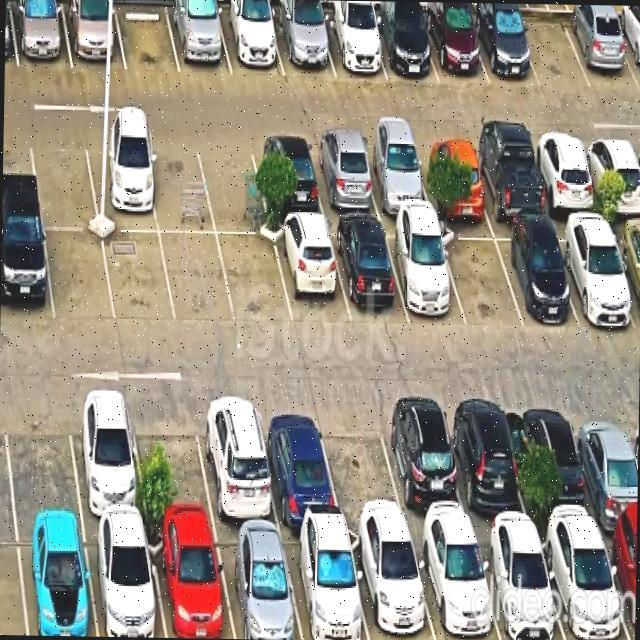Car: (198, 429, 269, 541), (72, 428, 142, 536), (388, 421, 456, 532), (18, 540, 91, 636), (154, 538, 224, 638), (271, 432, 331, 546), (228, 540, 296, 640), (555, 542, 624, 640), (294, 538, 359, 640), (362, 544, 431, 640), (521, 414, 579, 526), (427, 541, 492, 640), (454, 421, 514, 528), (572, 228, 631, 336), (91, 541, 156, 637), (580, 420, 638, 526), (398, 226, 458, 326), (495, 541, 555, 640), (90, 130, 153, 224), (513, 228, 570, 330), (426, 128, 482, 229), (485, 135, 540, 236), (343, 221, 398, 322), (278, 226, 338, 318), (254, 135, 316, 223), (538, 138, 592, 238), (590, 135, 640, 234), (369, 136, 421, 224), (0, 231, 48, 319), (318, 136, 368, 219), (378, 1, 430, 80), (172, 0, 224, 78), (430, 3, 480, 80), (330, 1, 378, 78), (225, 0, 275, 73), (278, 0, 327, 74), (571, 5, 622, 76), (482, 3, 528, 81), (67, 0, 116, 64), (16, 0, 62, 65)
Vacant: (7, 416, 76, 534), (140, 426, 205, 536), (327, 432, 396, 534), (450, 235, 514, 328), (106, 227, 166, 318), (48, 233, 109, 322), (154, 136, 208, 234), (210, 135, 265, 228), (32, 144, 92, 228), (222, 232, 279, 318), (166, 230, 222, 312), (524, 4, 576, 82), (119, 0, 173, 75)
